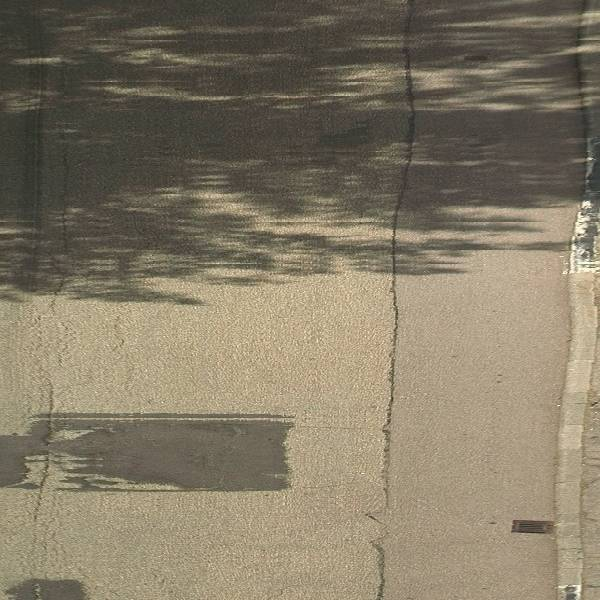road_damage: (1, 405, 308, 509), (361, 293, 404, 600), (27, 361, 73, 543), (50, 122, 75, 321)
